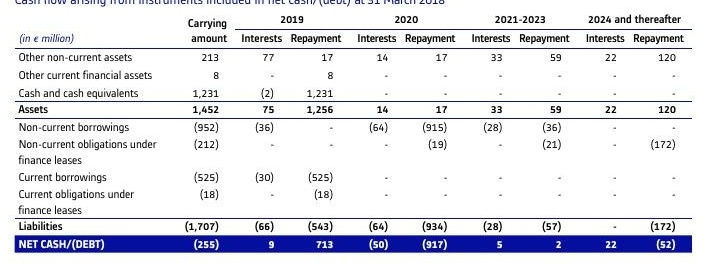table: (0, 0, 705, 264)
